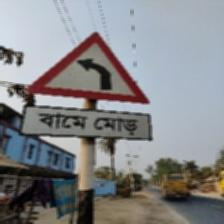Left-Turn: (20, 32, 153, 141)
